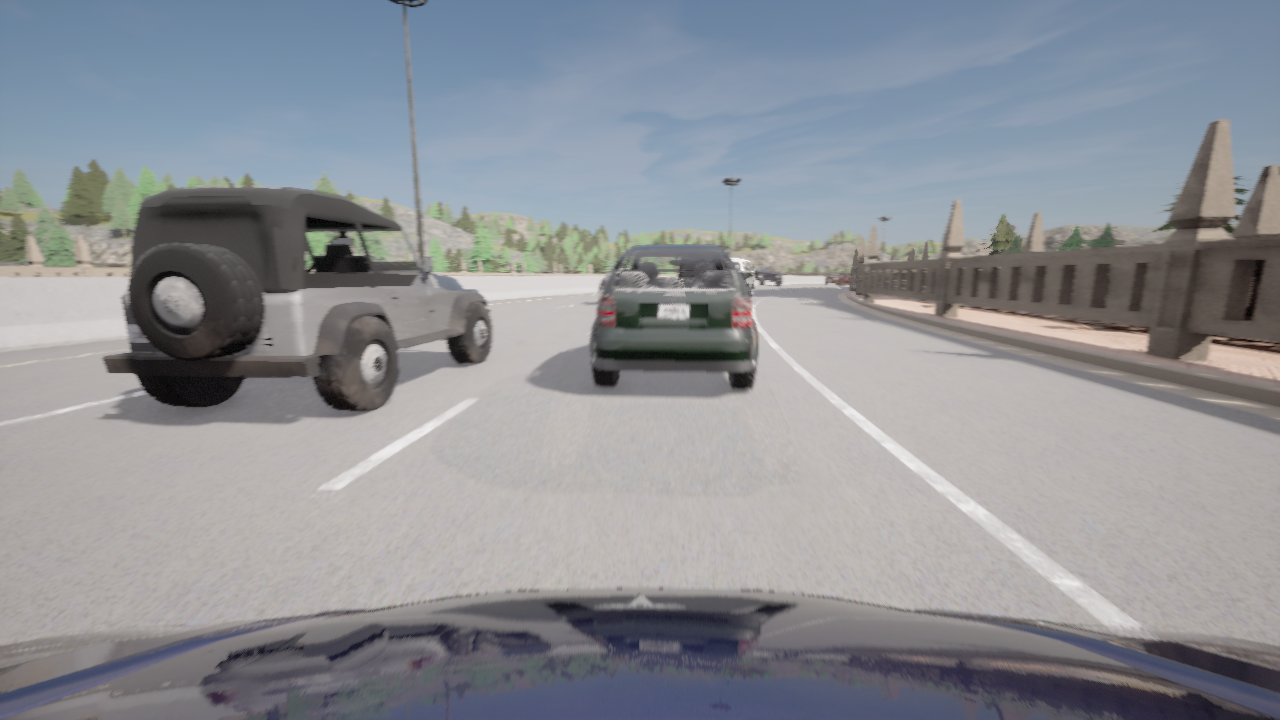cyclist: (0, 588, 1279, 719), (102, 187, 491, 411), (590, 245, 757, 389), (731, 257, 757, 296), (755, 267, 781, 285), (599, 268, 612, 297), (824, 273, 850, 285)
